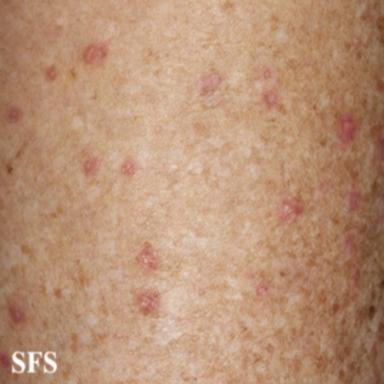Porokeratosis: (278, 197, 305, 224), (137, 242, 161, 270), (337, 114, 357, 145), (83, 42, 108, 66), (199, 71, 223, 95), (137, 290, 160, 314), (347, 184, 361, 214), (9, 304, 26, 323), (262, 89, 278, 108), (83, 157, 99, 176), (344, 231, 356, 256), (121, 158, 137, 176), (7, 106, 21, 123), (256, 282, 268, 298), (45, 66, 56, 81), (263, 69, 271, 80)
